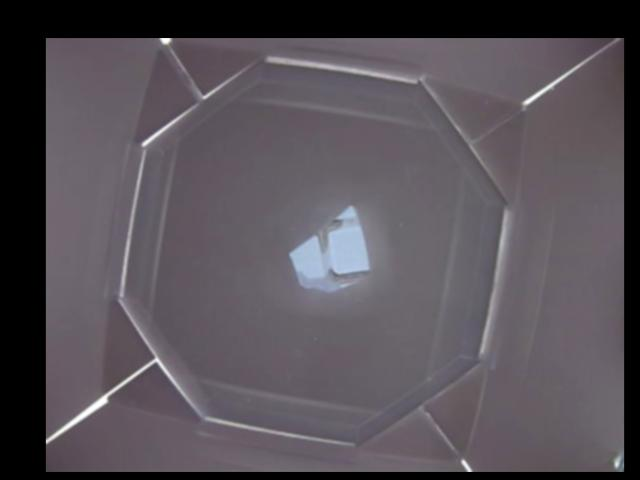China: (287, 208, 369, 293)
